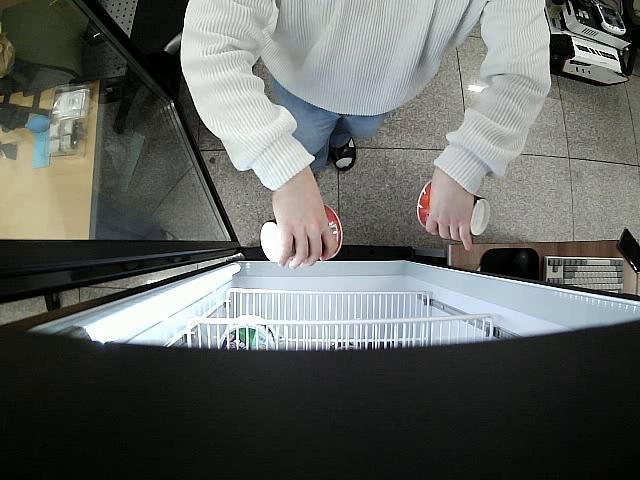02_shinRamen_S: (258, 207, 340, 264), (418, 178, 490, 239)
